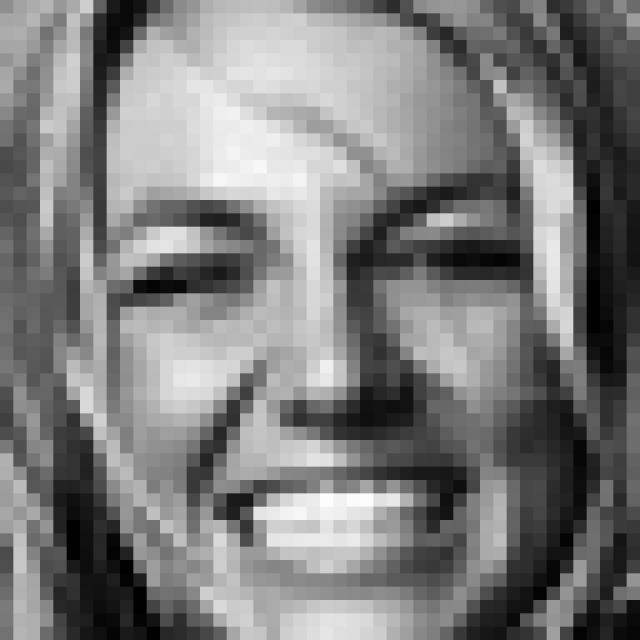happy: (109, 174, 532, 593)
